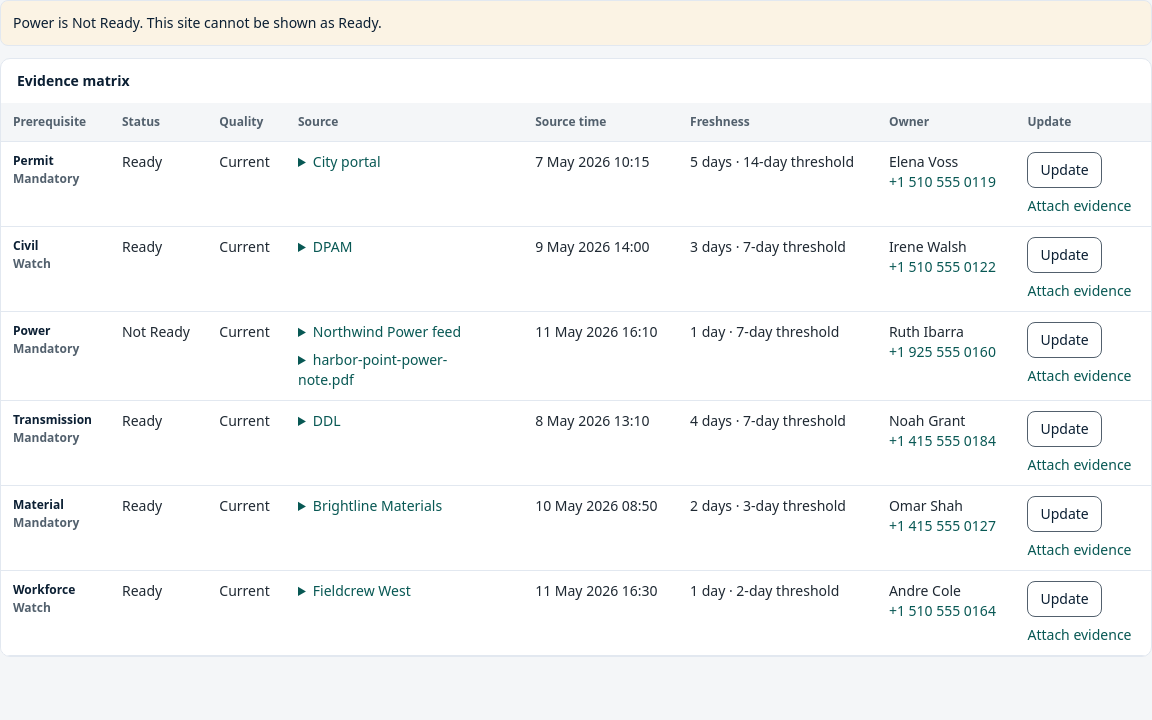
Test: keeps the drawer open on rejection, then saves a correction and restores focus
The width and height of the screenshot is (1152, 720).
Click the button with aria-label "Update Power" at [1065, 340], box [1028, 322, 1102, 358]
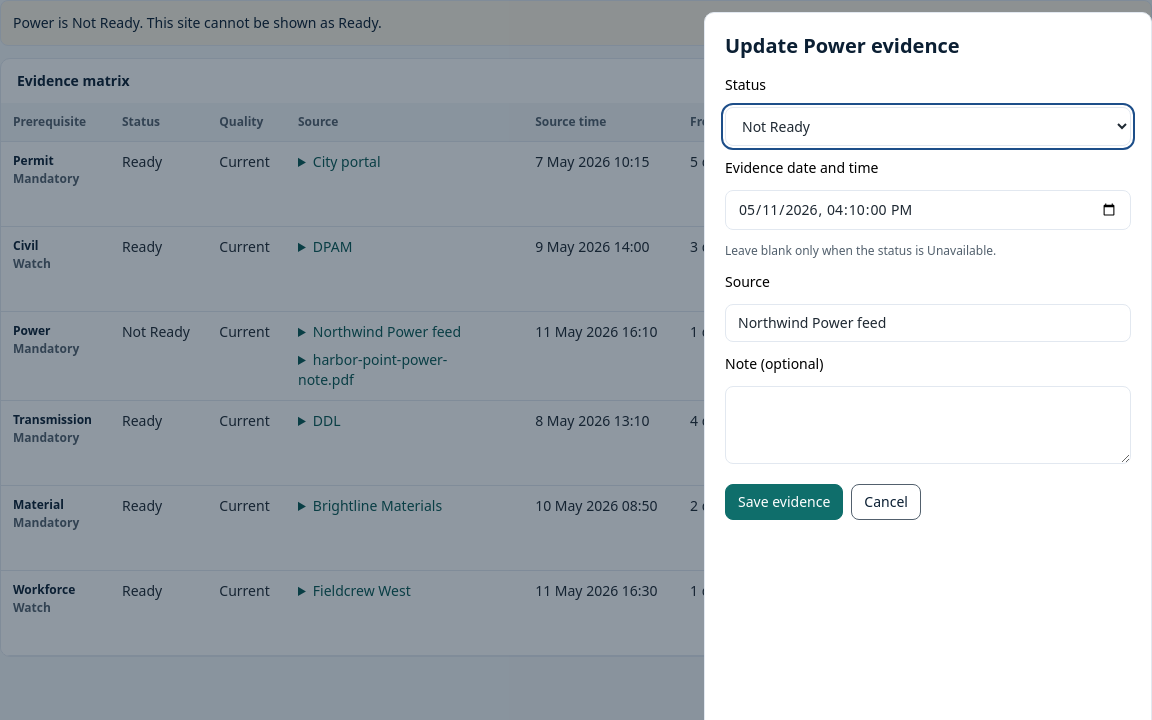
Expected: the dropdown labelled "Status" shows "Not Ready"
Expected: the field labelled "Source" holds "Northwind Power feed", [725, 304, 1131, 342]
Select "Ready" in the dropdown labelled "Status" at [928, 126], box [725, 107, 1131, 146]
Note: Set the value produced by the native date/time picker, which jsdom cannot open.
Clear the field labelled "Evidence date and time" at [928, 210], box [725, 190, 1131, 230]
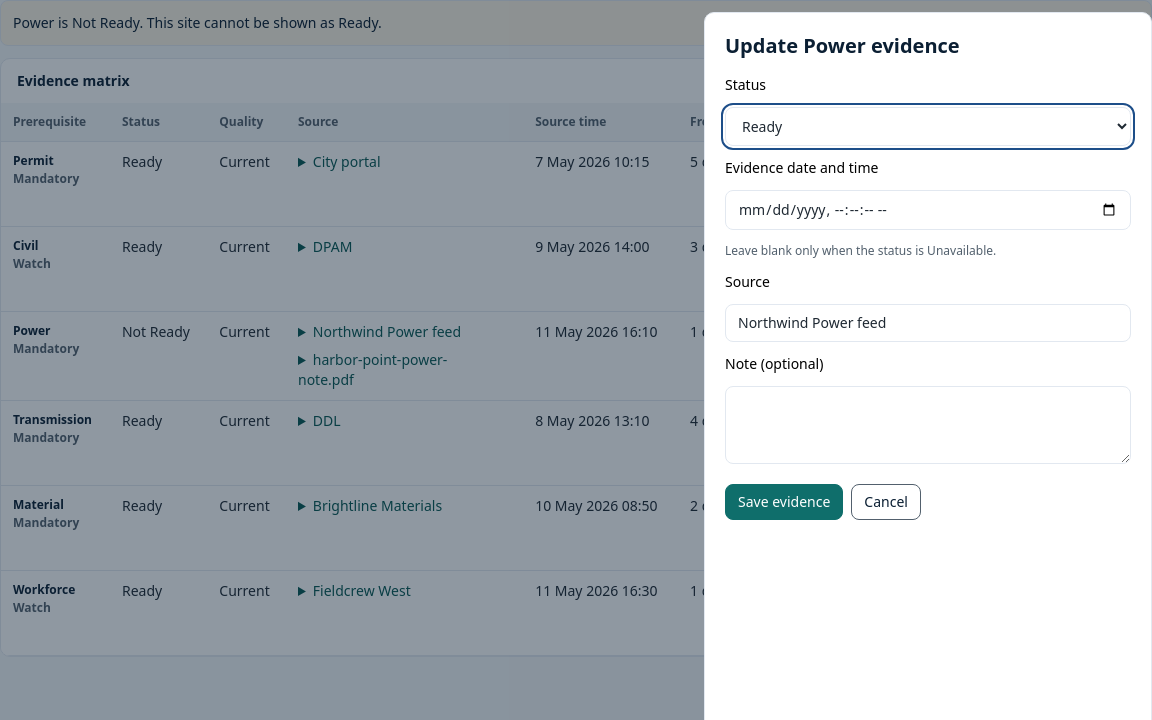
Click the button "Save evidence" at [784, 502], box [725, 484, 843, 520]
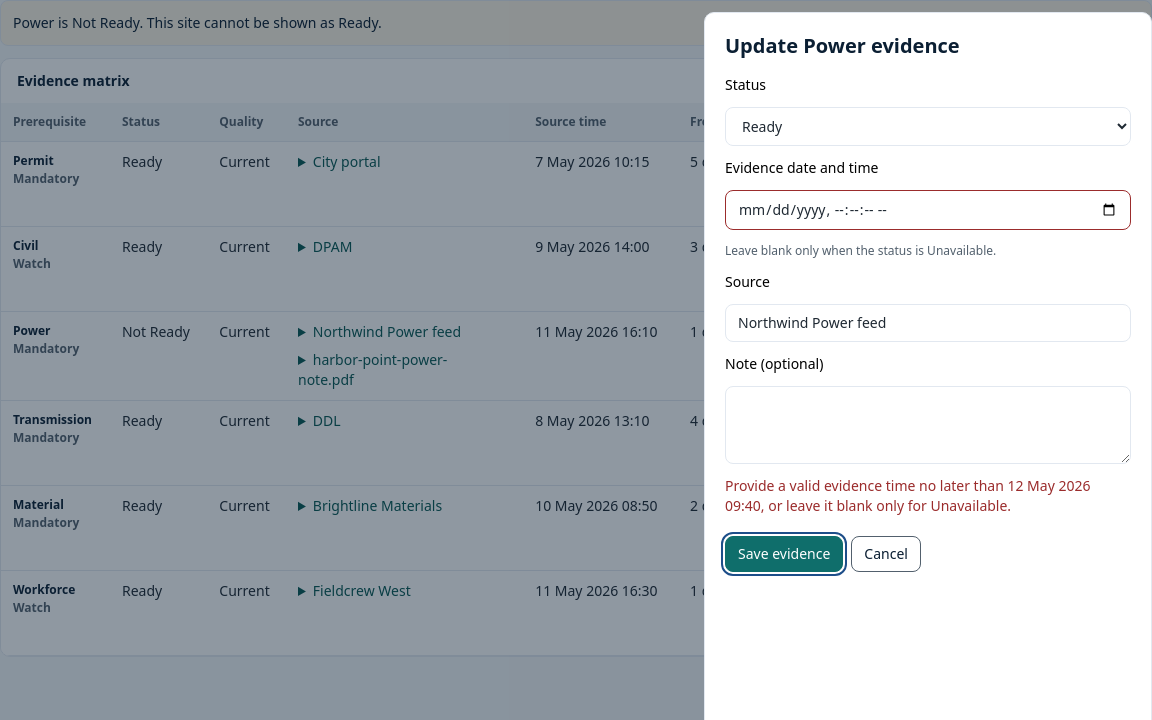
Expected: the text "Evidence changed. Run assessment to rescore." is not shown
Expected: the message shows "leave it blank only for Unavailable", [725, 476, 1090, 515]
Type "2026-05-12T09:00" into the field labelled "Evidence date and time" at [928, 210], box [725, 190, 1131, 230]
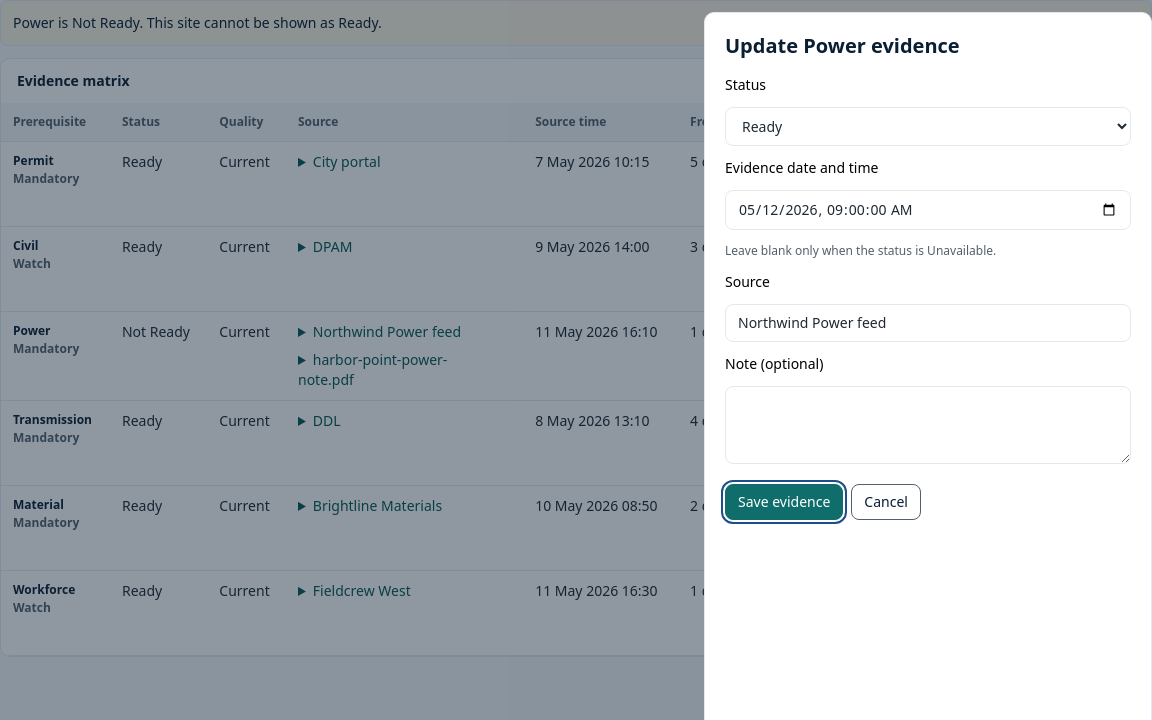
Replace the text in the field labelled "Source" with "Utility dispatch desk" at [928, 323], box [725, 304, 1131, 342]
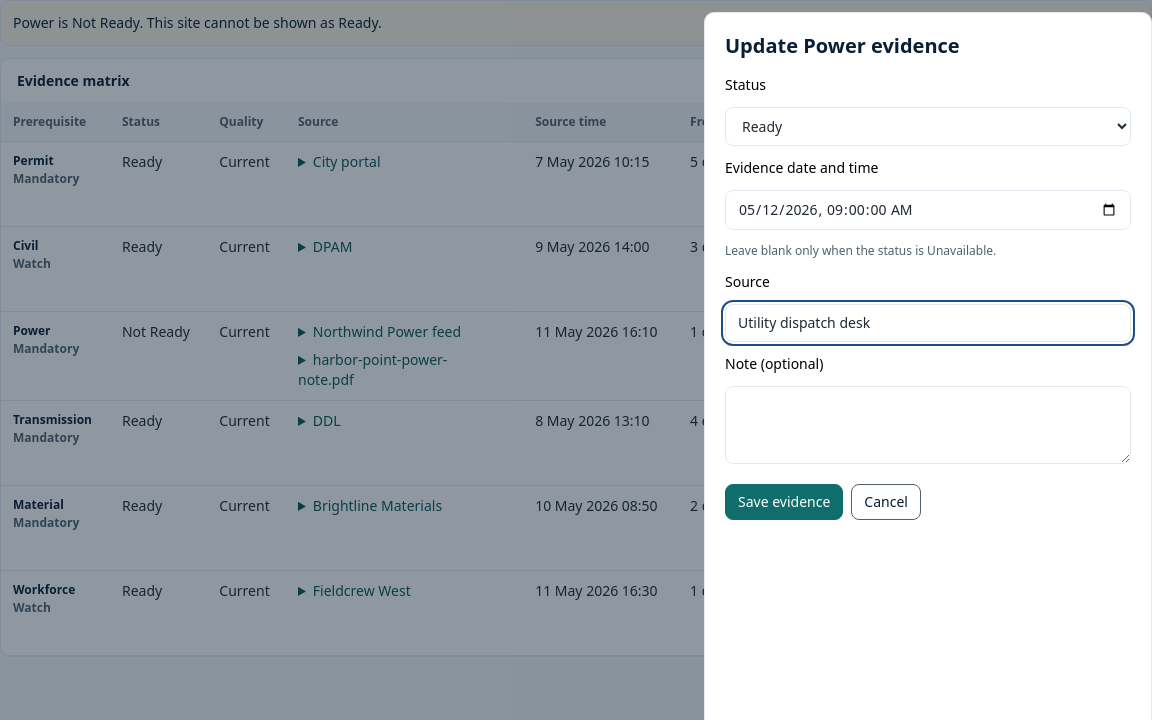
Click the button "Save evidence" at [784, 502], box [725, 484, 843, 520]
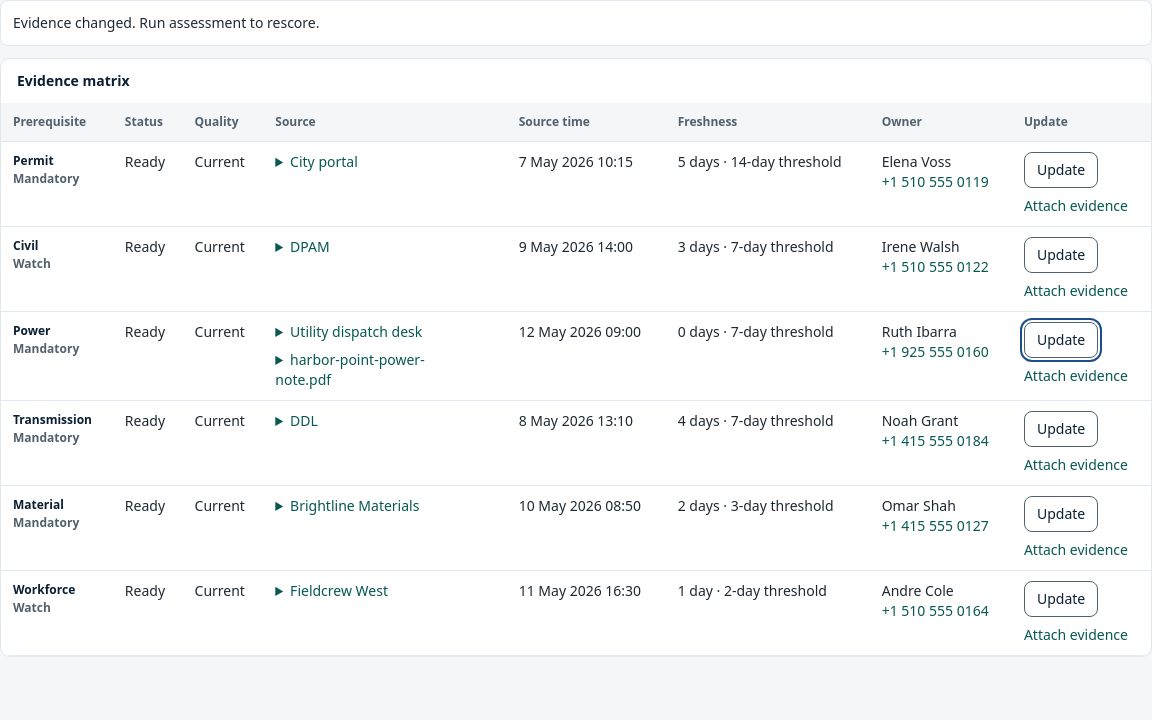
Expected: the cell "Ready" in the row of "Utility dispatch desk" is shown, [113, 312, 182, 400]
Expected: the heading "Utility dispatch desk" is shown, [290, 322, 422, 341]
Expected: the message reads "Evidence changed. Run assessment to rescore.", [13, 13, 320, 32]
